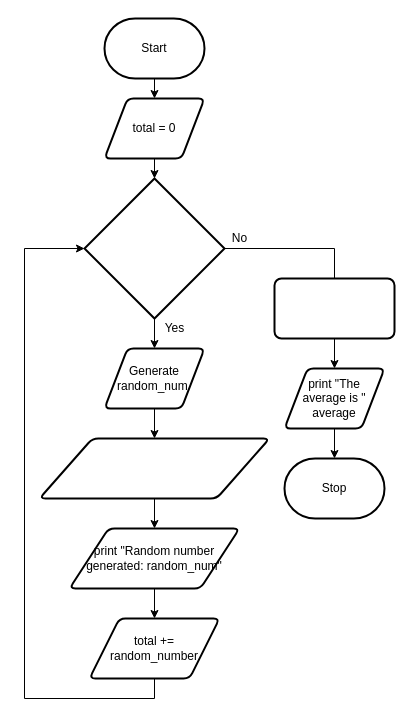
Some shapes in this 413 by 724 pixel diagram are drawn without their labels. Here are the shapes that lost their labels. From the top down, the box of each, then its label:
(83, 177, 225, 319): for int counter = 0 counter < 10 counter++
(273, 277, 395, 339): average = total / counter
(38, 437, 270, 499): num_array.append(random_num)
